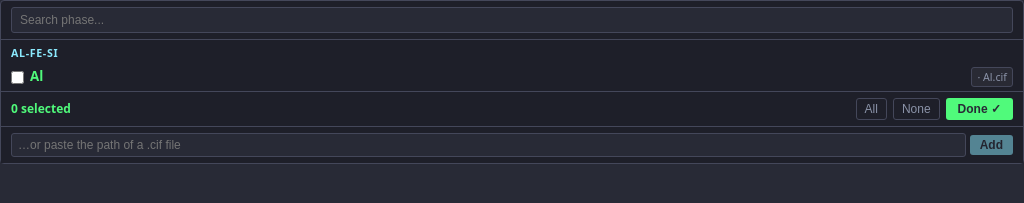
Test: with onAddPath › Add sends the typed path, then clears the field and says what was added
Type "  C:\\data\\MyAl.cif " into the field with placeholder "…or paste the path of a .cif file" at (488, 145), box [11,133,966,157]
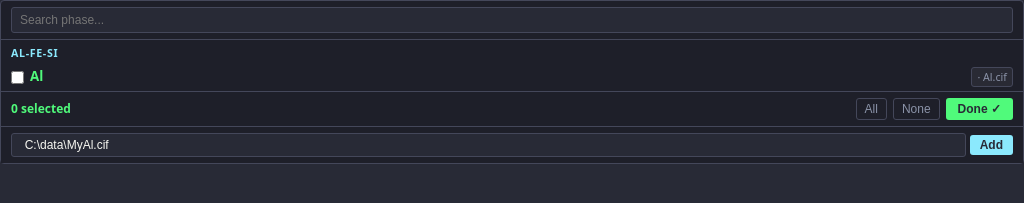
Click the button "Add" at (991, 145), box [970,135,1013,155]
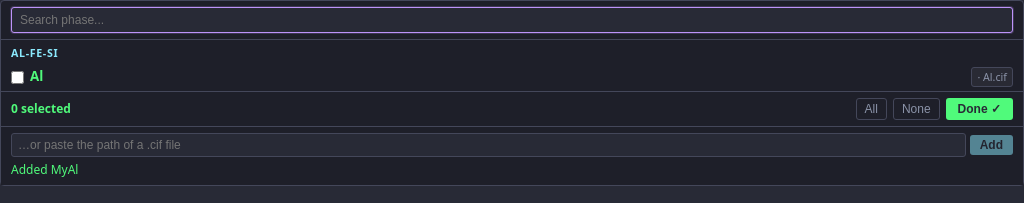
Result: the text "Added MyAl" is shown at [11,161,78,178]
Result: the field with placeholder "…or paste the path of a .cif file" is empty at [11,133,966,157]
